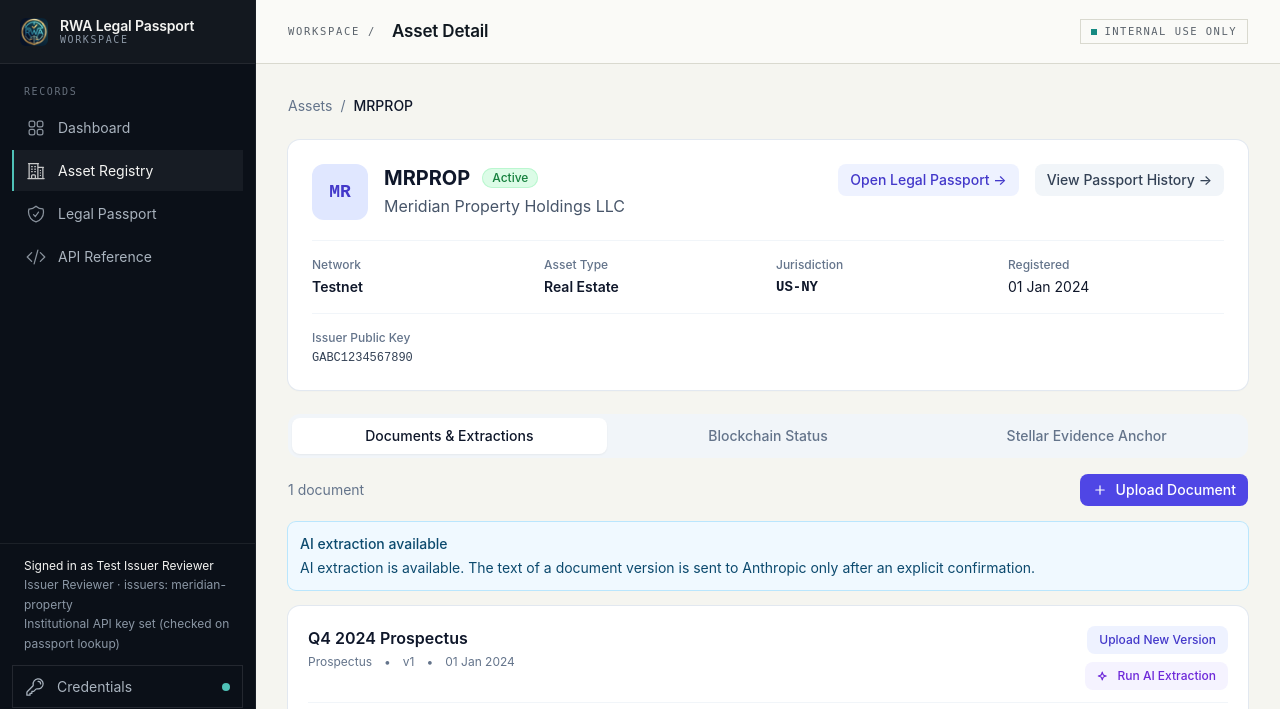
Scenario: Passport History › opens from the asset page and loads the history by itself
The image size is (1280, 709).
Click the link with test id "open-passport-history-link".
click(1129, 180)  # box [1035,164,1224,196]
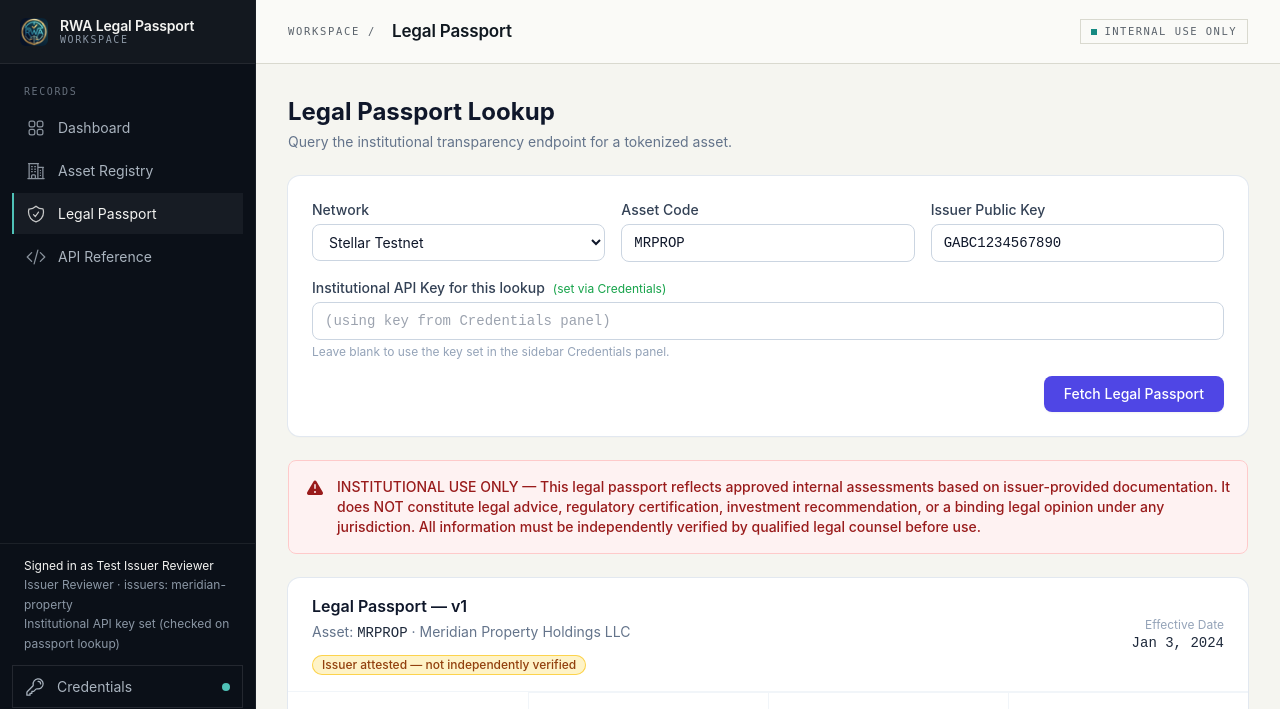
Expected: the field labelled "Asset Code" holds "MRPROP", [621,224,915,262]
